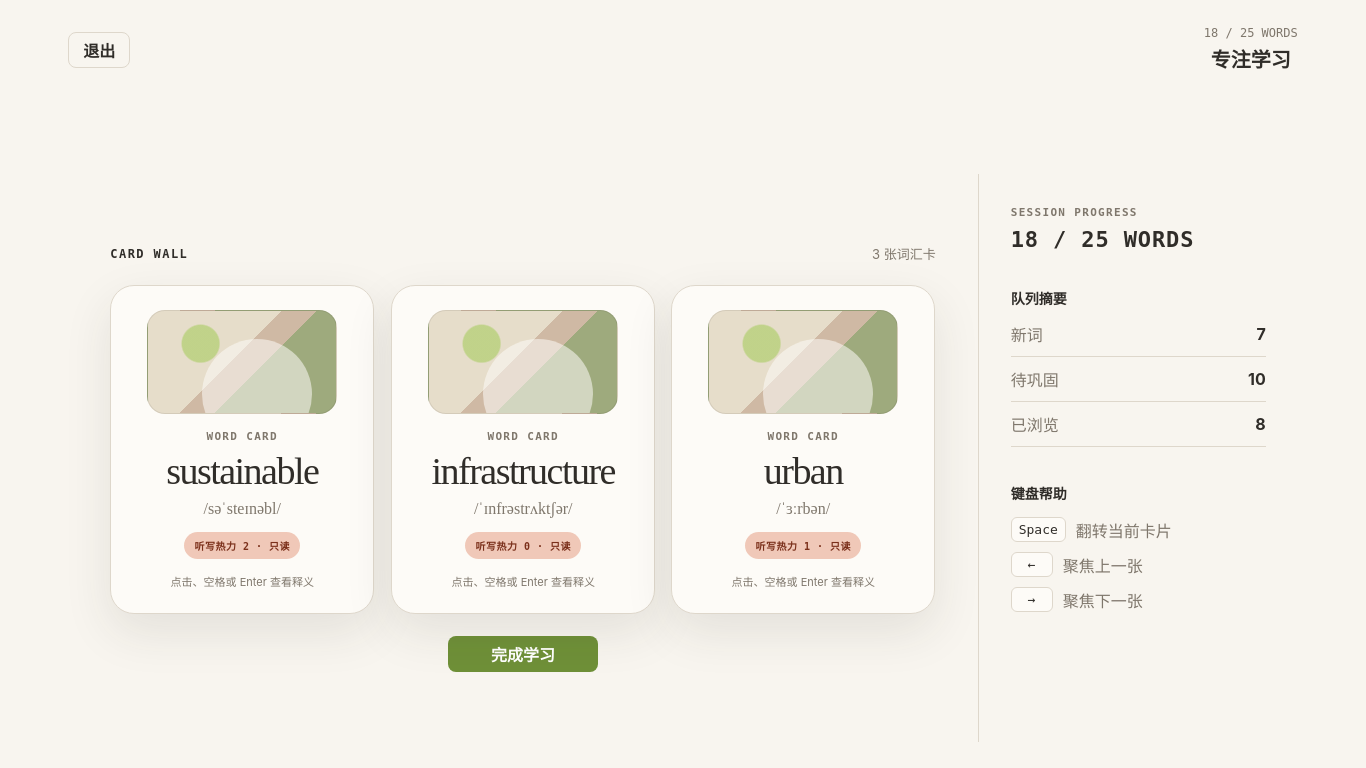
Test: 每张卡片独立翻面且不会重置其他卡片
The image size is (1366, 768).
Click the button with aria-label "sustainable 学习卡" at coordinates (243, 450), box [110,285,375,614]
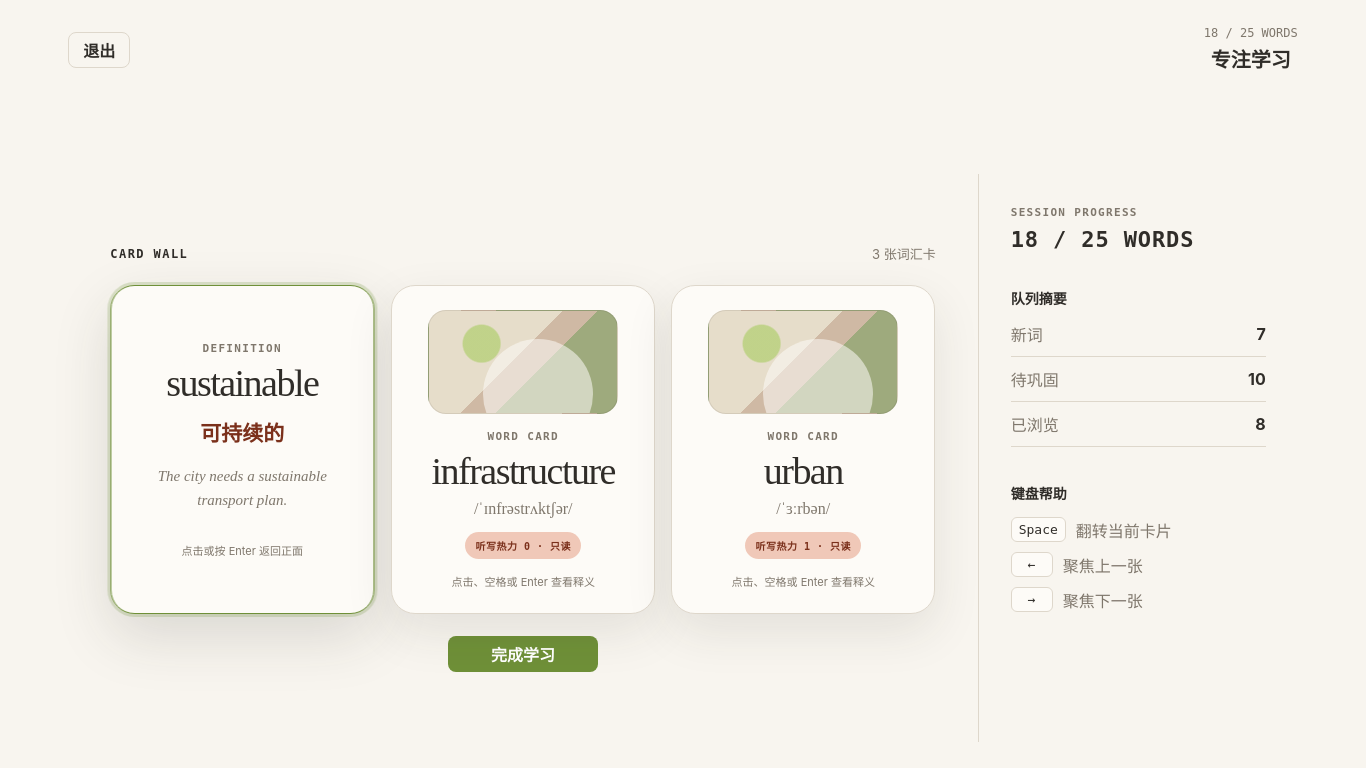
Check: the text "基础设施" is not shown
Check: the text "可持续的" is shown, box [200,420,284,448]
Click the button with aria-label "infrastructure 学习卡" at coordinates (523, 450), box [391,285,655,614]
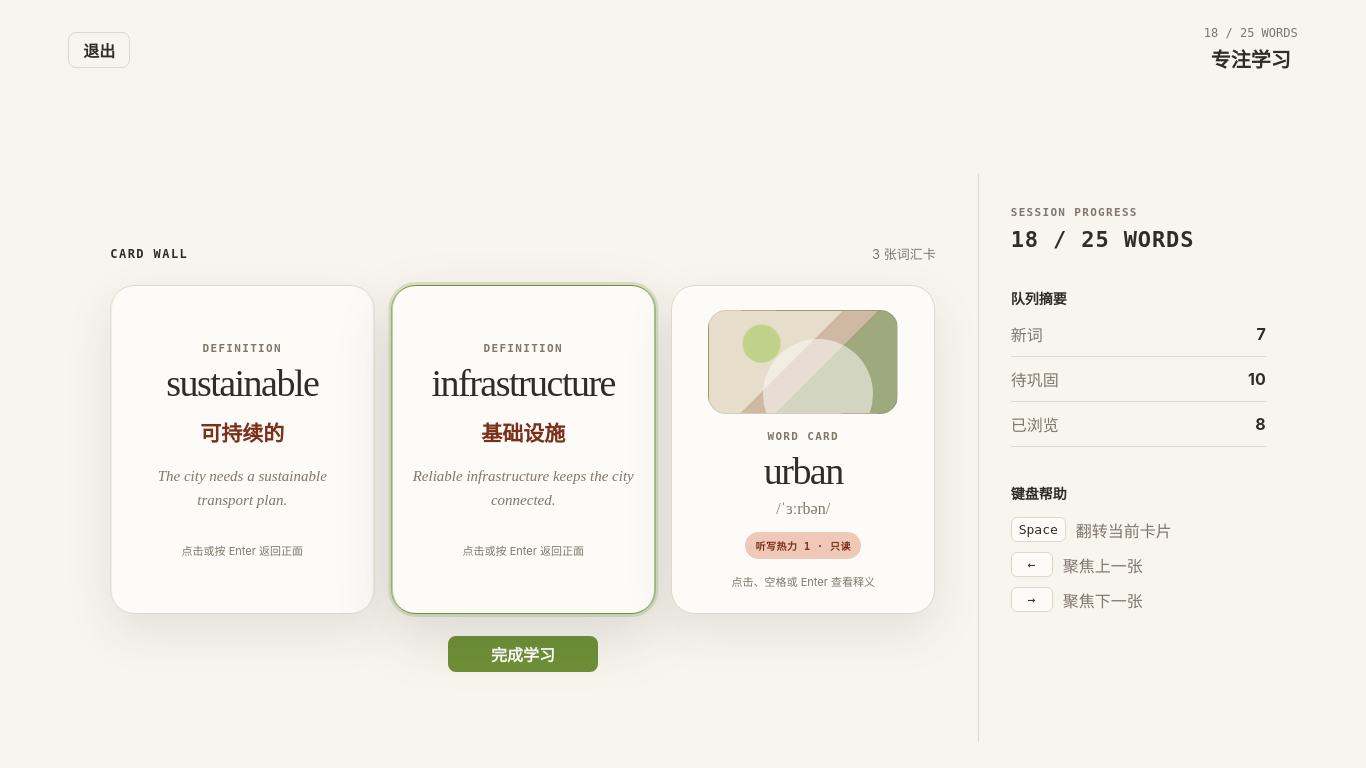
Check: the text "可持续的" is shown, box [200,420,284,448]
Check: the text "基础设施" is shown, box [481,420,565,448]
